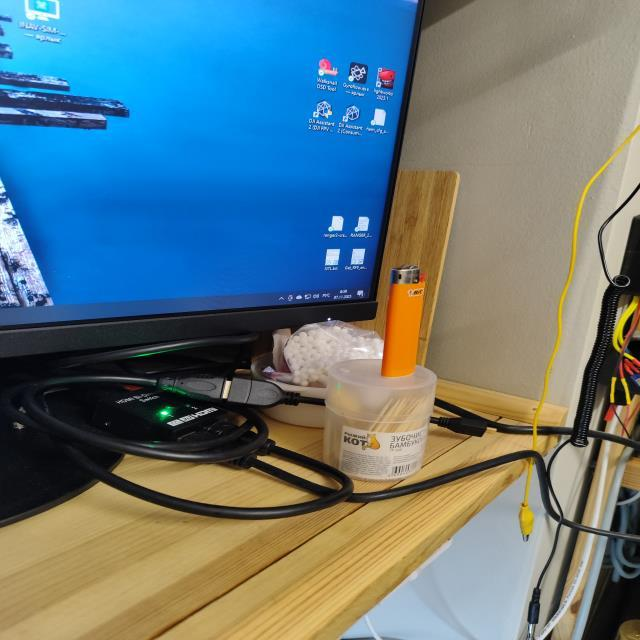lighter: (381, 265, 424, 376)
